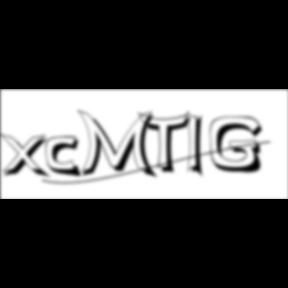G: (210, 116, 268, 176)
M: (77, 108, 161, 181)
T: (138, 112, 196, 176)
c: (46, 136, 86, 180)
l: (188, 108, 210, 182)
x: (0, 132, 54, 181)
